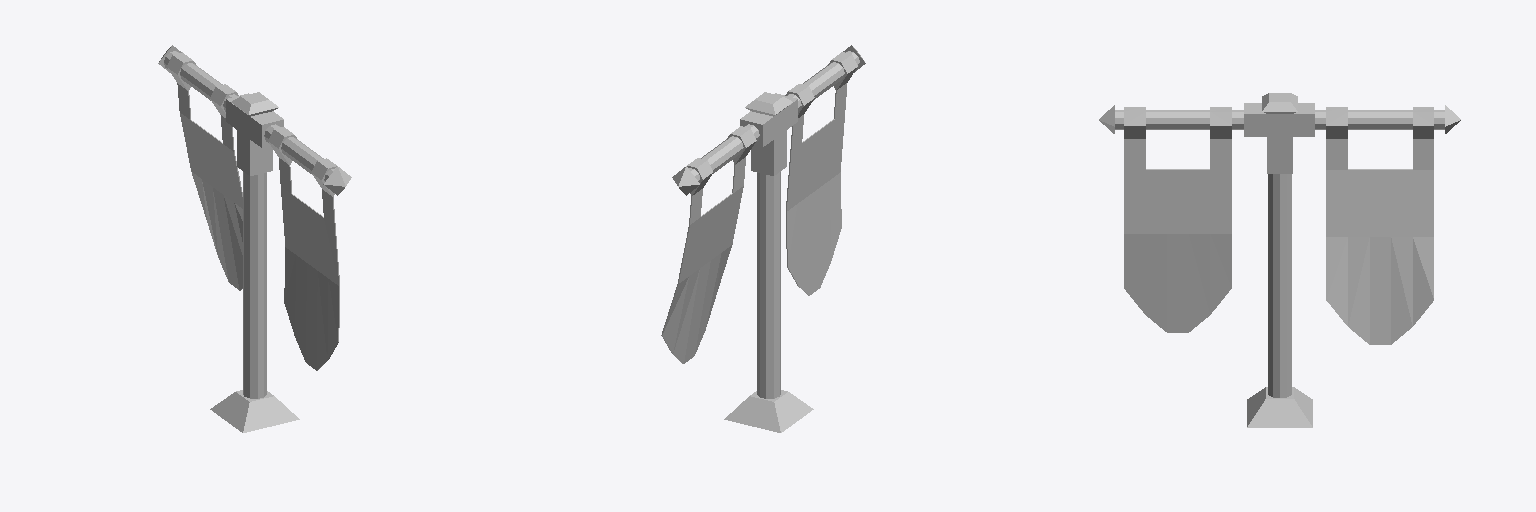
The model's file is FlagRed3.obj.
The picture shows the model from 3 angles: view 1: azimuth 30°, elevation 25°; view 2: azimuth 150°, elevation 25°; view 3: azimuth 270°, elevation 25°; orthographic projection.
Visible parts, largest first — view 1: polySurface2; view 2: polySurface2; view 3: polySurface2.
Boxes of the visible parts, x1,y1,x2,y2 form: polySurface2: [158, 45, 351, 432]; polySurface2: [661, 45, 865, 432]; polySurface2: [1099, 93, 1460, 427].
Size of the model in its own units: 1.03 by 5.29 by 5.51.